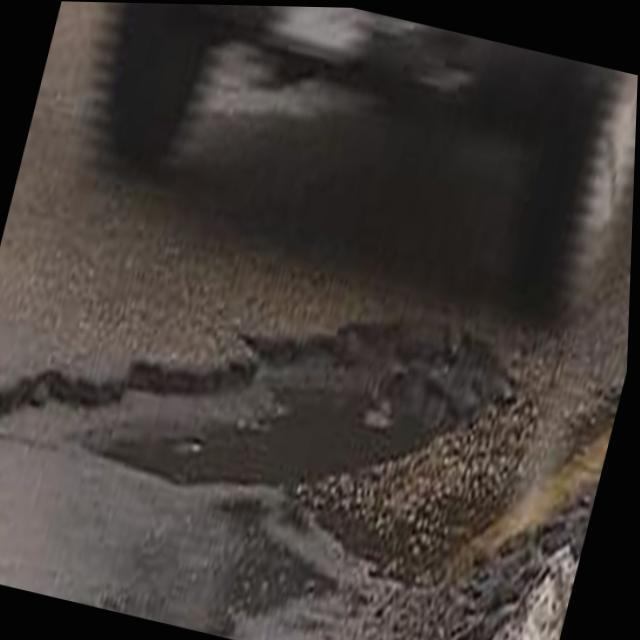Pothole: (0, 320, 509, 481)
